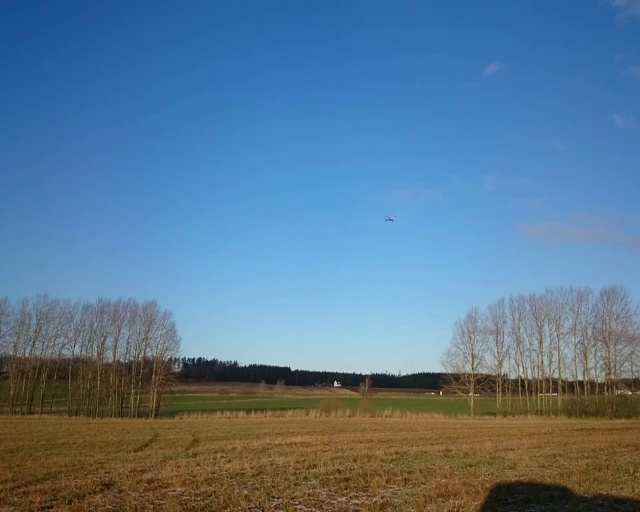DRONE: (385, 215, 397, 222)
